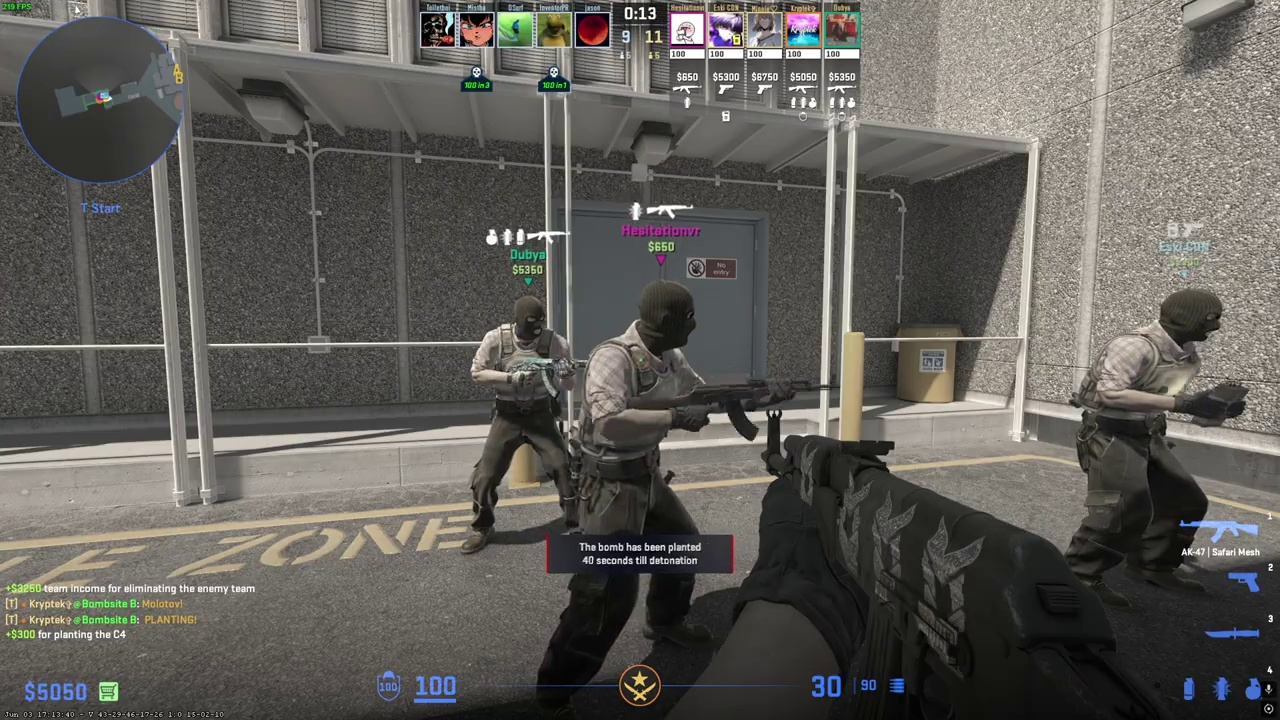Terrorist: (565, 280, 717, 710), (1068, 285, 1229, 601), (461, 296, 581, 551)
